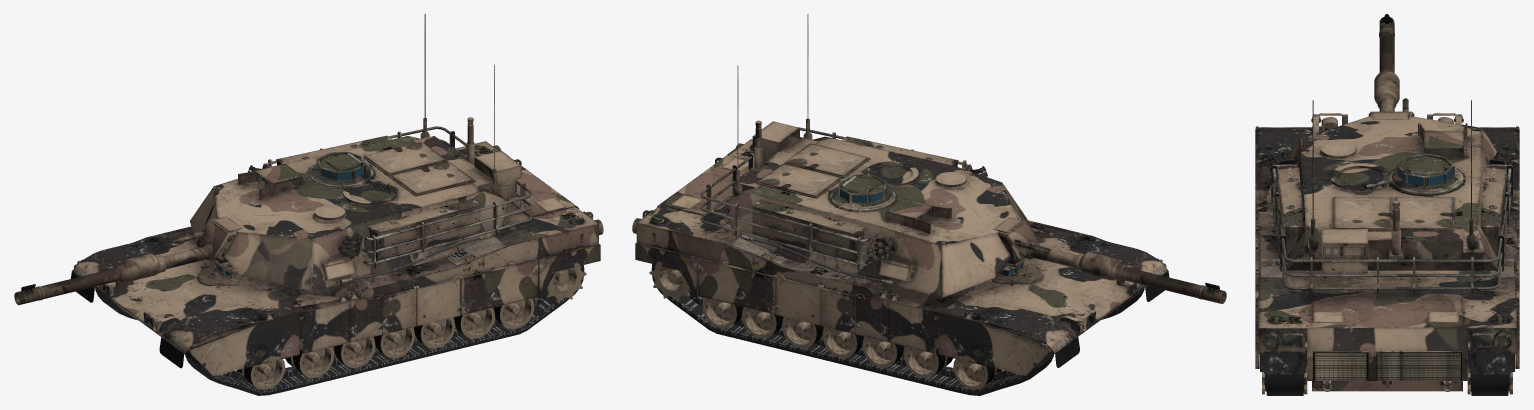
File: abrams.obj
The picture shows the model from 3 angles, left to right: view 1: azimuth 30°, elevation 25°; view 2: azimuth 150°, elevation 25°; view 3: azimuth 270°, elevation 25°; orthographic projection. The views are drawn at different scales.
Visible parts, largest first — view 1: abrams_1.005, low_1,0.001; view 2: abrams_1.005, low_1,0.001; view 3: abrams_1.005, low_1,0.001.
Part boxes in pixels (<box>): abrams_1.005: <box>14,14,603,389</box>; low_1,0.001: <box>95,265,584,395</box>; abrams_1.005: <box>632,14,1226,389</box>; low_1,0.001: <box>651,264,1144,395</box>; abrams_1.005: <box>1255,14,1519,394</box>; low_1,0.001: <box>1264,372,1511,395</box>.
Bounding box in the file's own units: 6.62 × 3 × 2.47.
2 materials, 2 textured.
